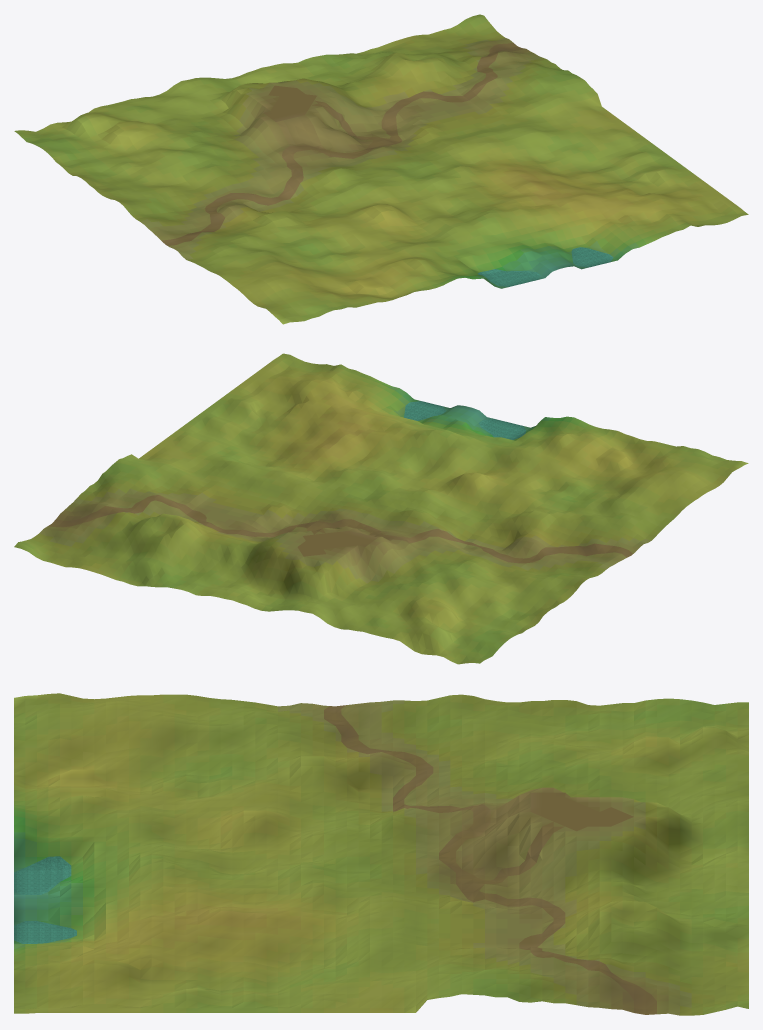
The picture shows the model from 3 angles, top to bottom: view 1: azimuth 30°, elevation 25°; view 2: azimuth 150°, elevation 25°; view 3: azimuth 270°, elevation 25°; orthographic projection. The views are drawn at different scales.
Visible parts, largest first — view 1: model; view 2: model; view 3: model.
Boxes of the visible parts, <box> form: model: <box>14,14,748,324</box>; model: <box>14,353,748,664</box>; model: <box>14,693,748,1015</box>.
Size of the model in its own units: 64 by 4.88 by 64.
Materials: 2 (1 with a texture image).
